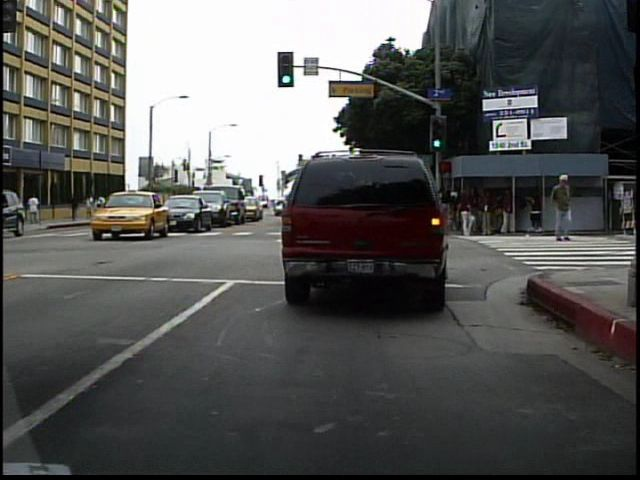person: (549, 170, 576, 247), (25, 192, 43, 230)
